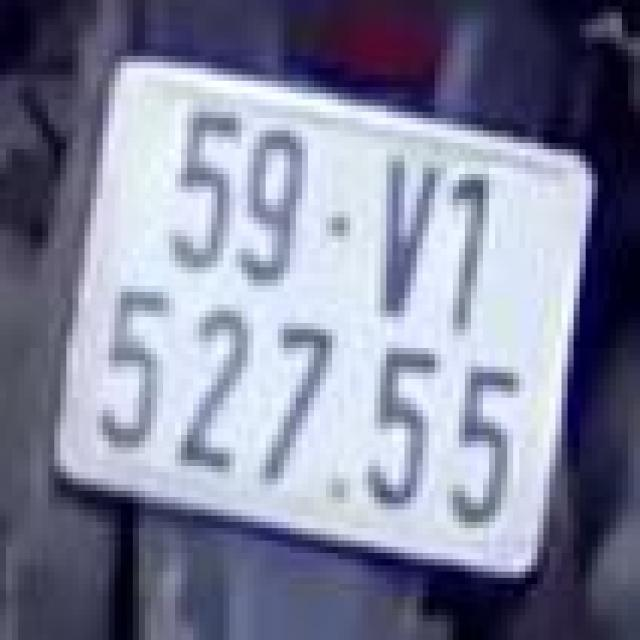1: (447, 158, 501, 345)
2: (169, 295, 254, 482)
5: (94, 270, 172, 457), (365, 338, 444, 518), (450, 358, 528, 532), (169, 96, 242, 276)
7: (263, 311, 335, 503)
9: (247, 106, 308, 298)
V: (371, 149, 444, 323)
